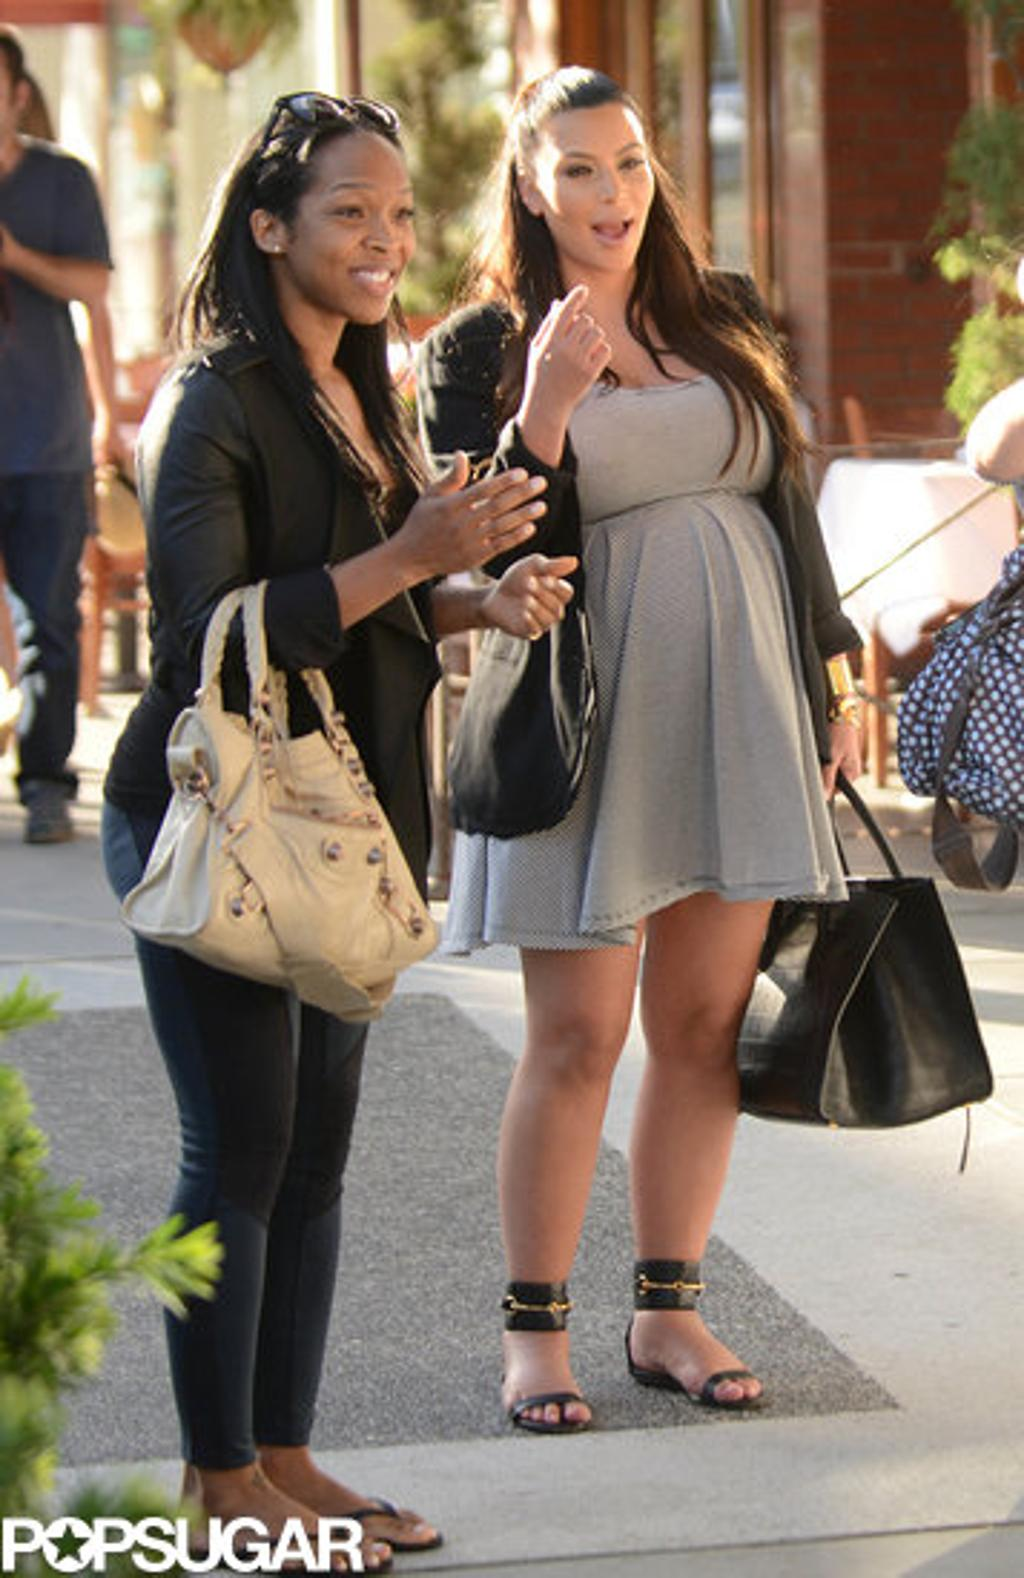face: (293, 123, 410, 317), (537, 111, 654, 271)
